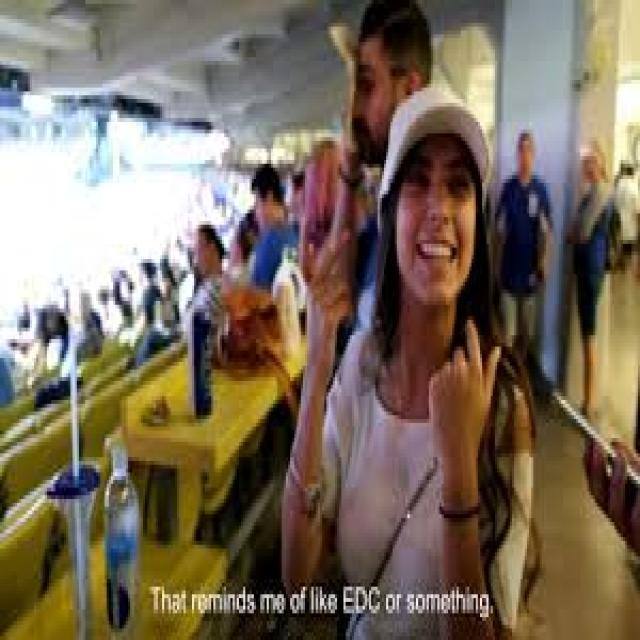cap: (374, 70, 501, 230)
